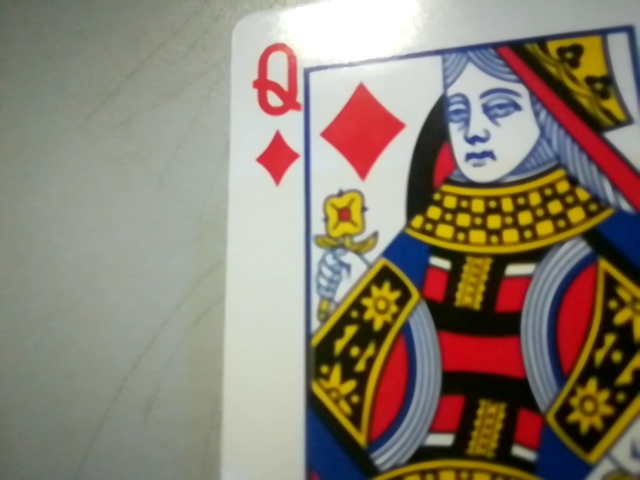fk q: (240, 36, 310, 185)
